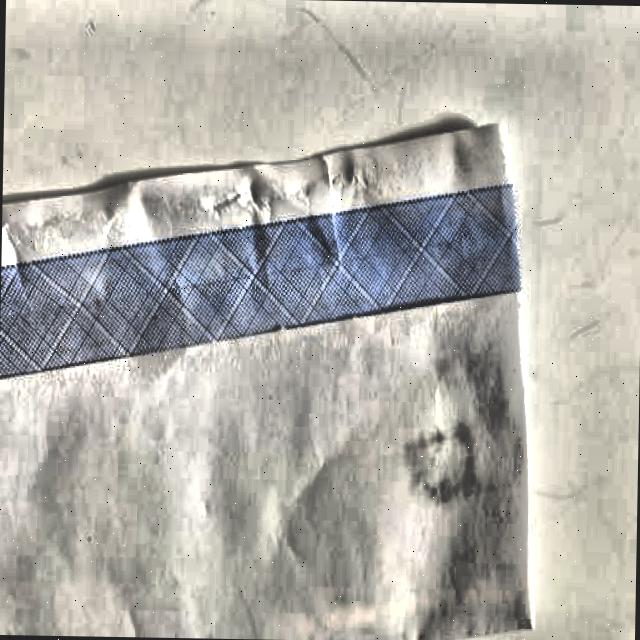paper: (0, 104, 531, 640)
